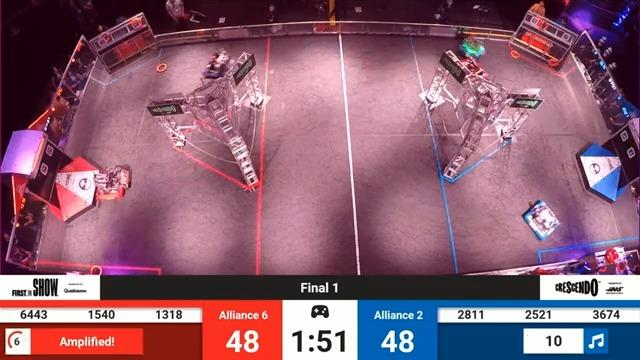robot: (518, 198, 565, 244), (90, 161, 134, 204), (203, 45, 240, 79), (461, 36, 488, 62), (457, 54, 483, 76)
